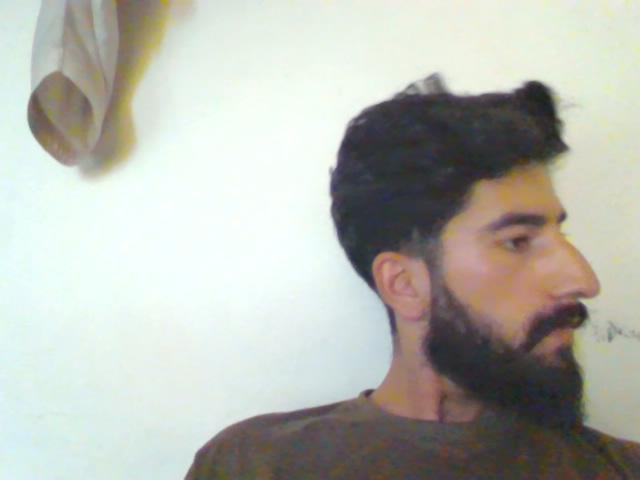hairnetless: (296, 64, 582, 261)
